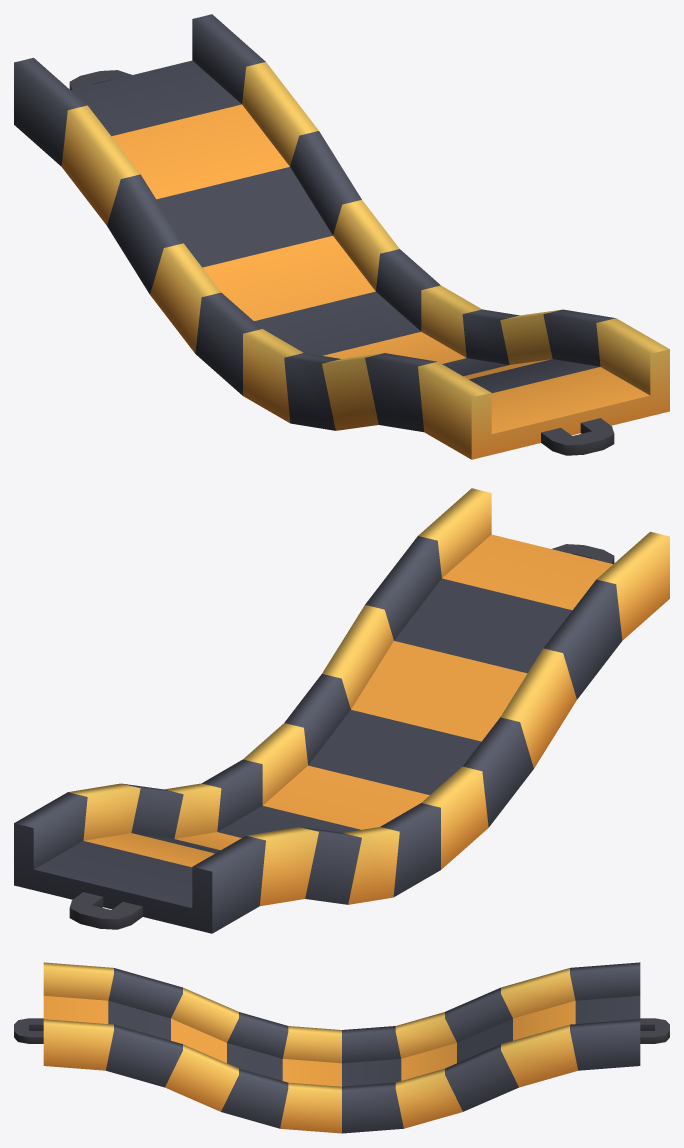
Rendered from track-striped-narrow-straight-bump-down.fbx.
3 views of the same model, one above another, from view 1: azimuth 30°, elevation 25°; view 2: azimuth 150°, elevation 25°; view 3: azimuth 270°, elevation 25° (orthographic). The views are drawn at different scales.
Parts seen in each view (by area): view 1: track-striped-narrow-straight-bump-down; view 2: track-striped-narrow-straight-bump-down; view 3: track-striped-narrow-straight-bump-down.
Part boxes in pixels (x1,y1,x2,y2): track-striped-narrow-straight-bump-down: (14,14,669,459); track-striped-narrow-straight-bump-down: (14,488,669,933); track-striped-narrow-straight-bump-down: (14,962,669,1133).
Bounding box in the file's own units: 100 × 80 × 440.
